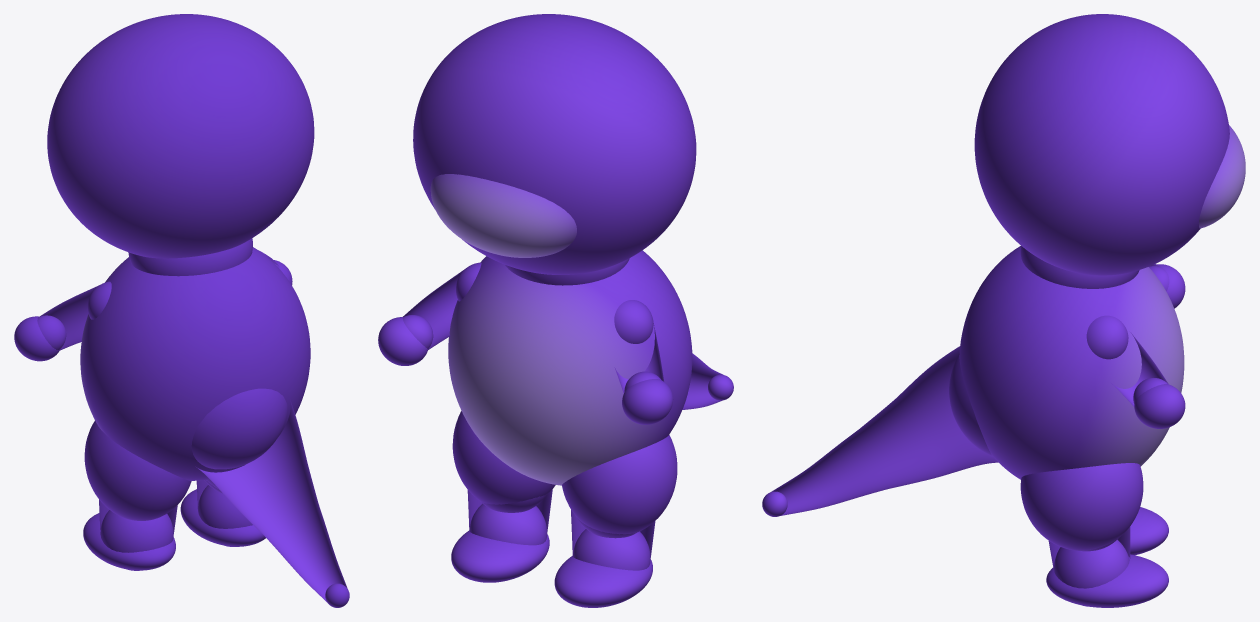
File: standin-raw.glb
The picture shows the model from 3 angles, left to right: view 1: azimuth 30°, elevation 25°; view 2: azimuth 150°, elevation 25°; view 3: azimuth 270°, elevation 25°; orthographic projection. The views are drawn at different scales.
Parts seen in each view (by area): view 1: standin; view 2: standin; view 3: standin.
Part boxes in pixels (box(x1,y1,x2,y2)): standin: box(14, 14, 349, 607); standin: box(378, 14, 733, 607); standin: box(762, 14, 1245, 607).
Size of the model in its own units: 0.5443 by 1.01 by 0.8031.
Materials: 1 (1 with a texture image).
